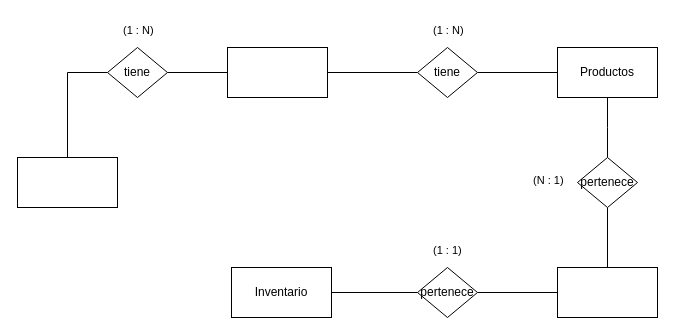
This 675x335 diagram has some shape labels left out. Here are the shapes that lost their labels. From the top down, the centre of each, then its label:
At point 277,72: "Pedidos".
At point 67,182: "Clientes".
At point 607,292: "Categorías".
